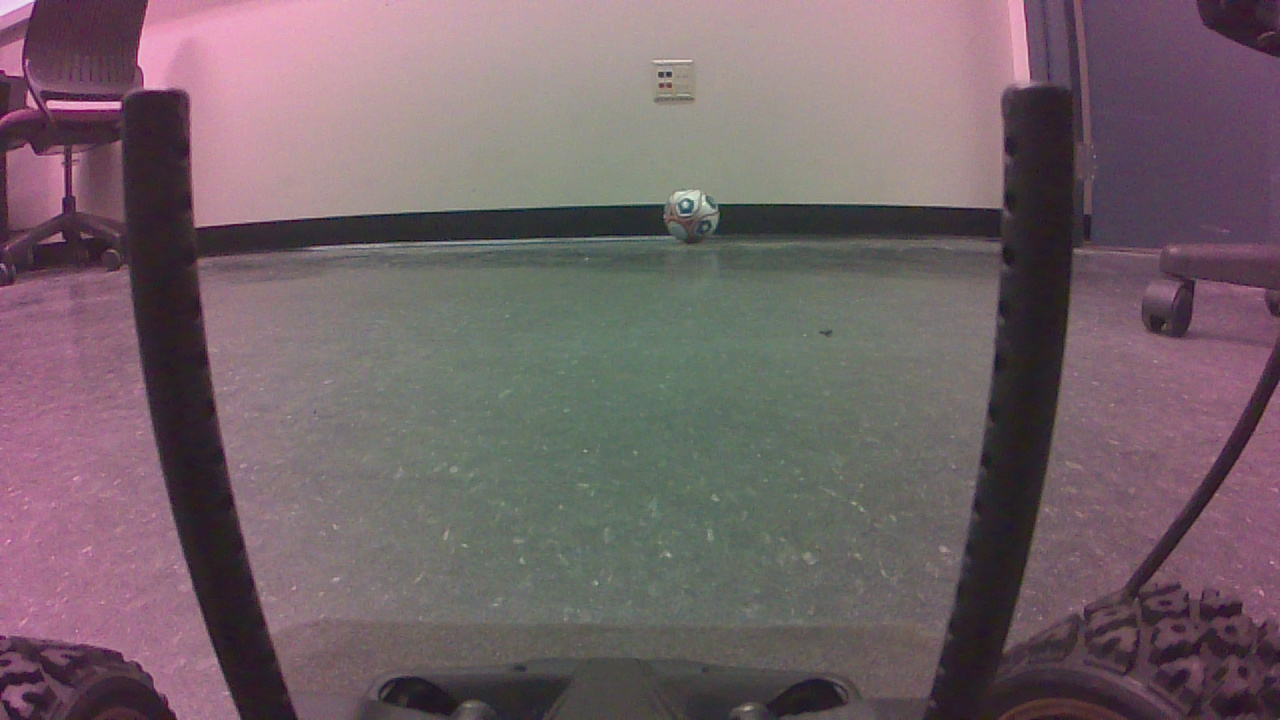ball: (669, 195, 725, 250)
